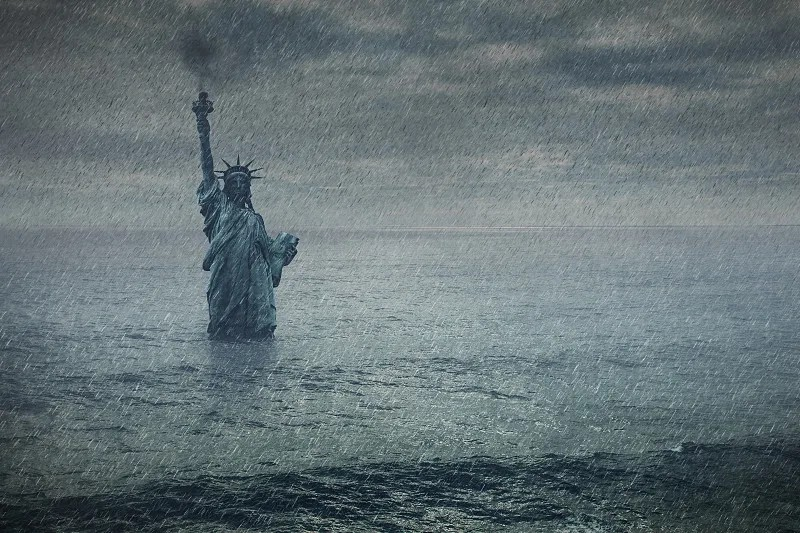SL: (192, 92, 299, 345)
